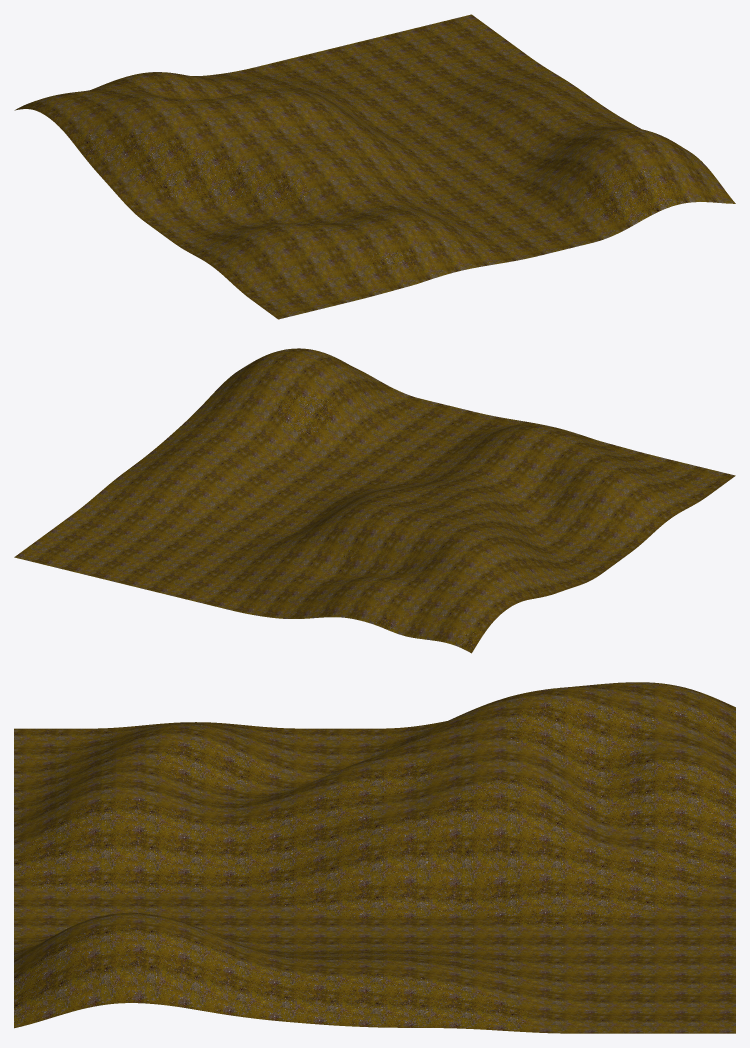
File: world_mesh.glb
3 views of the same model, one above another, from view 1: azimuth 30°, elevation 25°; view 2: azimuth 150°, elevation 25°; view 3: azimuth 270°, elevation 25° (orthographic). The views are drawn at different scales.
Visible parts, largest first — view 1: Plane; view 2: Plane; view 3: Plane.
Part boxes in pixels (bbox=[...]): Plane: bbox=[14, 14, 735, 319]; Plane: bbox=[14, 348, 735, 653]; Plane: bbox=[14, 682, 735, 1033].
Size of the model in its own units: 300 by 36.08 by 300.
Materials: 1 (1 with a texture image).
